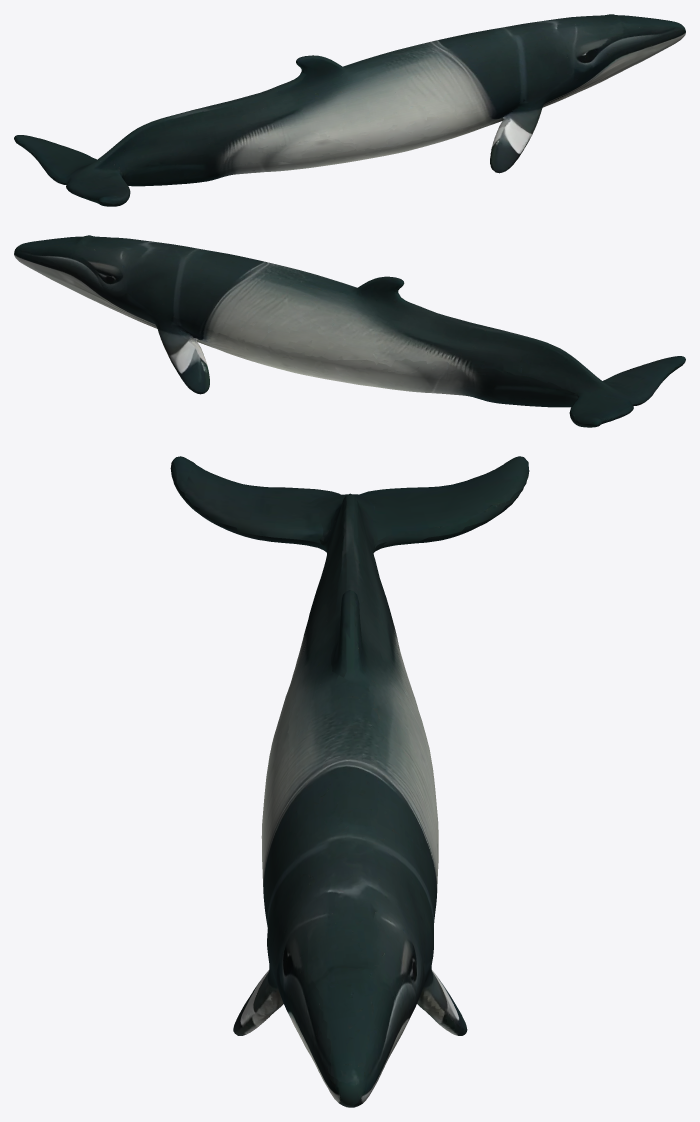
The model's file is minke.glb.
3 renders of one model, top to bottom at view 1: azimuth 30°, elevation 25°; view 2: azimuth 150°, elevation 25°; view 3: azimuth 270°, elevation 25°, orthographic. The views are drawn at different scales.
Visible parts, largest first — view 1: textured_mesh; view 2: textured_mesh; view 3: textured_mesh.
Part boxes in pixels (bbox=[...]): textured_mesh: bbox=[14, 14, 685, 206]; textured_mesh: bbox=[14, 235, 685, 427]; textured_mesh: bbox=[170, 456, 529, 1107].
Size of the model in its own units: 1.99 by 0.4145 by 0.4925.
Materials: 1 (1 with a texture image).
